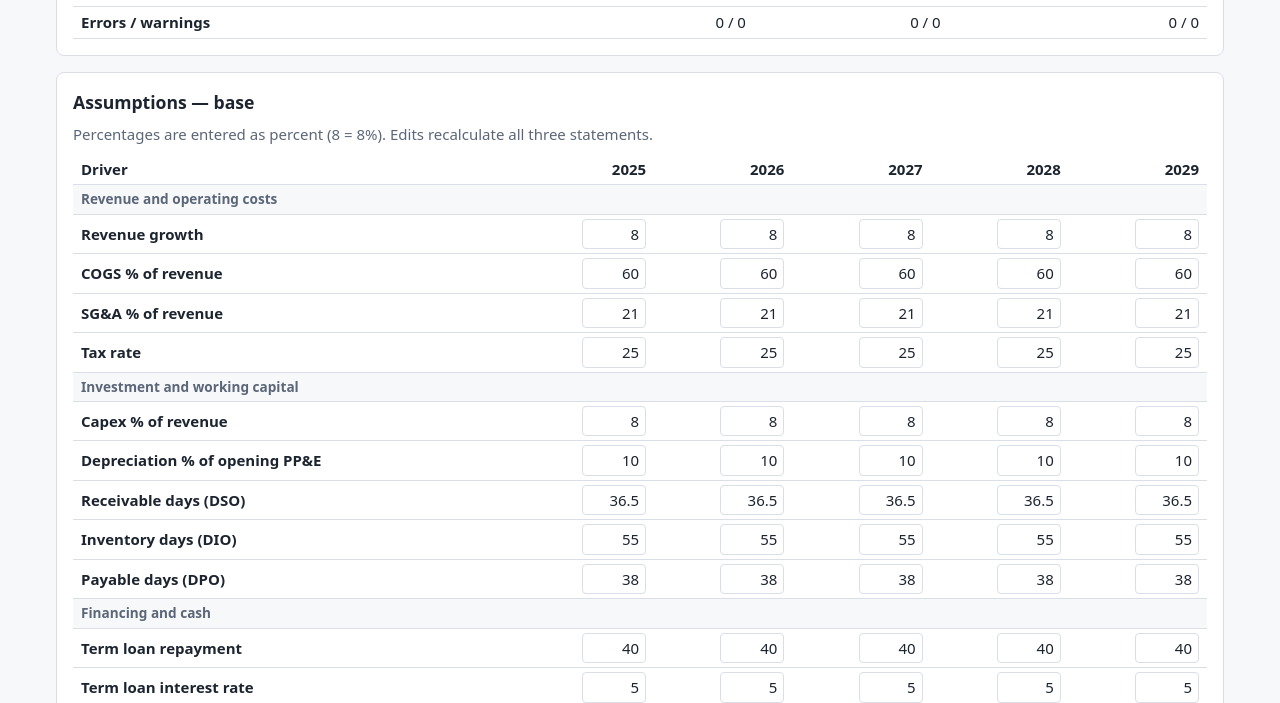
it: editing assumptions › shows server validation problems with their location instead of hiding them
This screenshot has width=1280, height=703.
(page scrolled)
Clear the field named "Tax rate, 2025 (percent)": (614, 352) top-left (582, 337), bottom-right (646, 368)
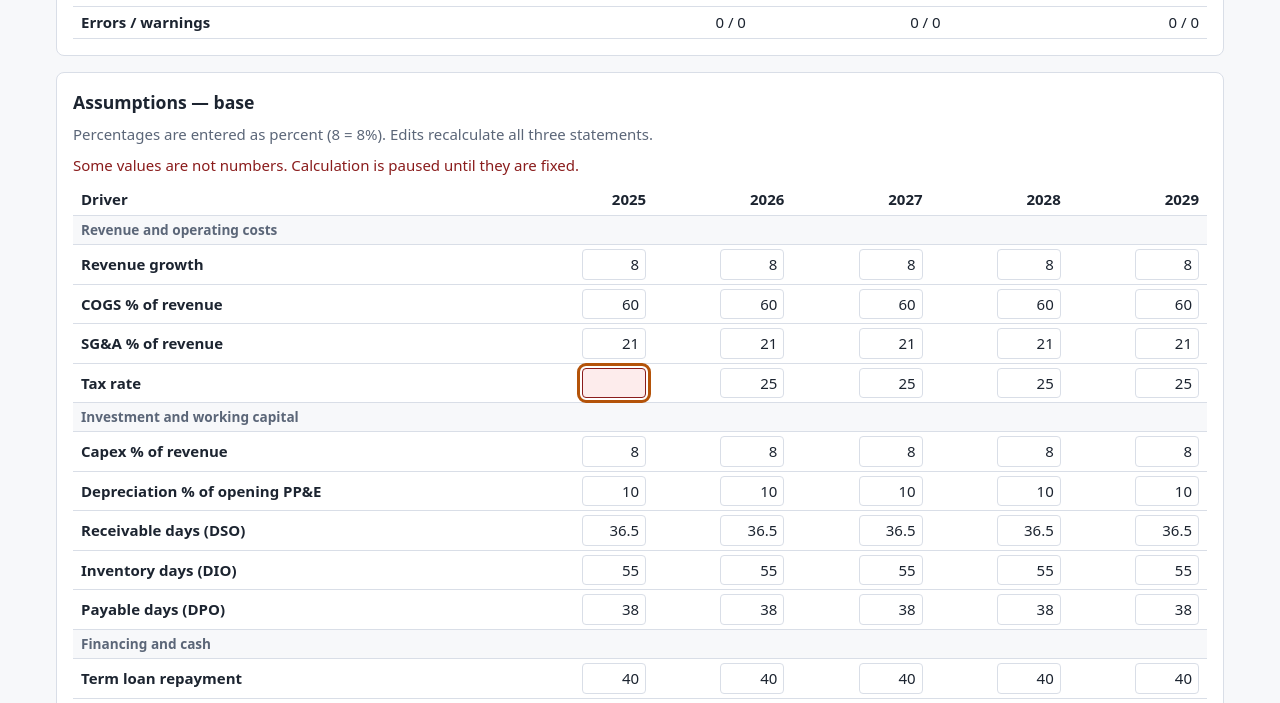
In the field named "Tax rate, 2025 (percent)": (614, 383) top-left (582, 368), bottom-right (646, 398), type "150"
(page scrolled)
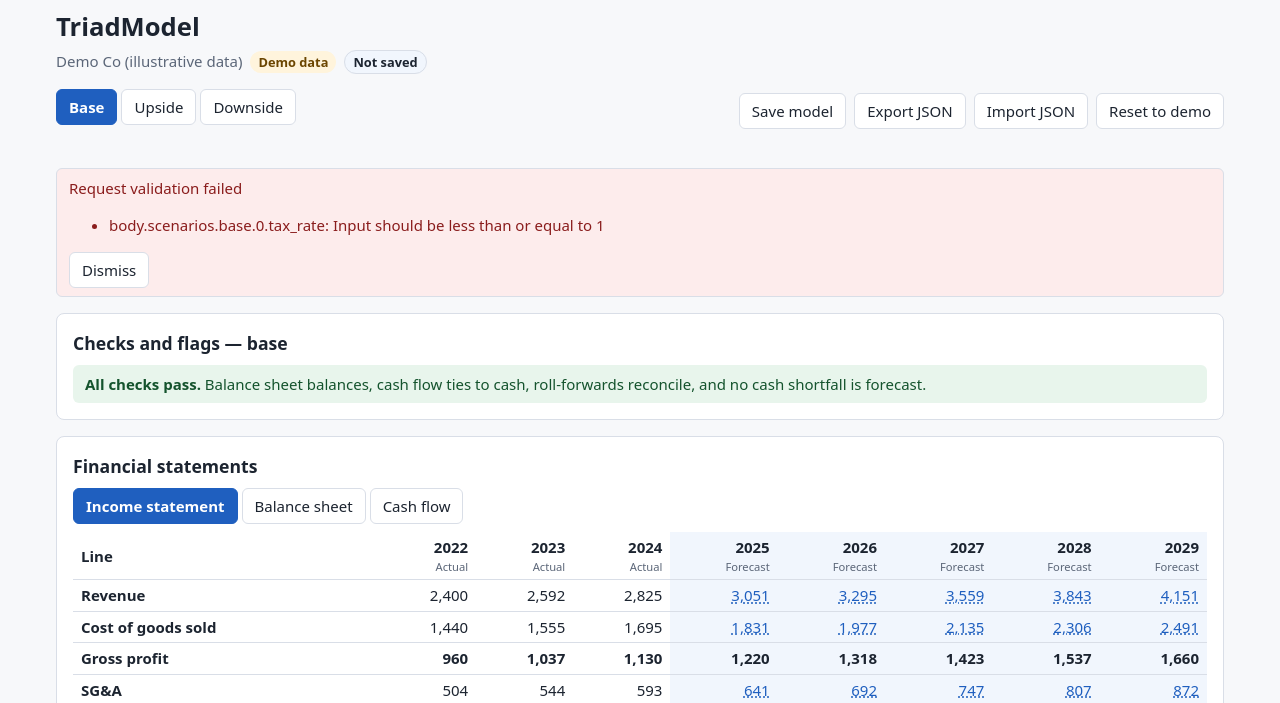
Check: the list item "scenarios.base.0.tax_rate: Input should be less than or equal to 1" is shown, box top-left (109, 215), bottom-right (605, 235)
